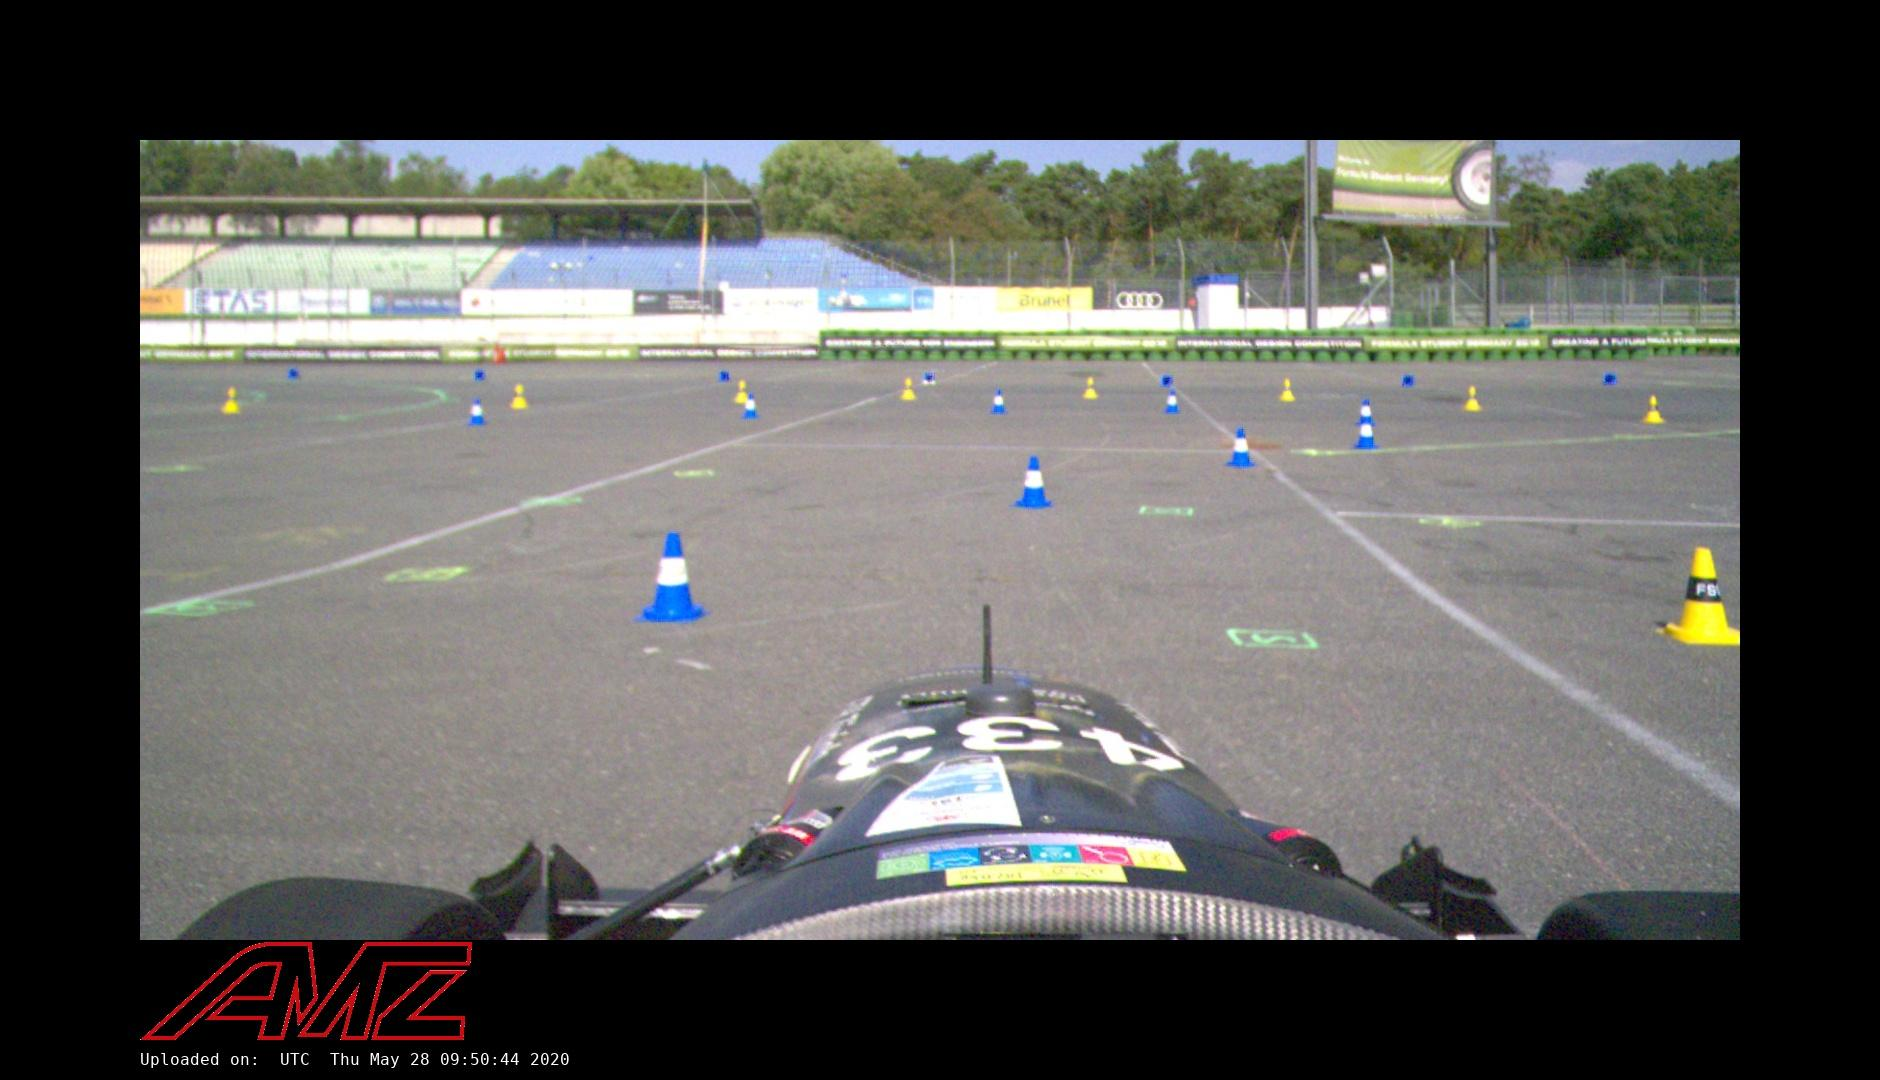blue_cone: (635, 531, 710, 624), (1011, 455, 1055, 509), (1225, 426, 1258, 468), (1352, 419, 1380, 450), (1352, 398, 1378, 428), (464, 398, 488, 426), (989, 388, 1008, 415), (1163, 388, 1181, 415), (742, 394, 761, 420), (921, 371, 937, 385), (1160, 375, 1174, 388)
yellow_cone: (1658, 546, 1739, 646), (1641, 394, 1666, 422), (220, 386, 243, 415), (507, 382, 529, 410), (1463, 385, 1484, 412), (733, 379, 751, 403), (1278, 379, 1296, 402), (1082, 377, 1100, 399), (900, 379, 917, 400)
